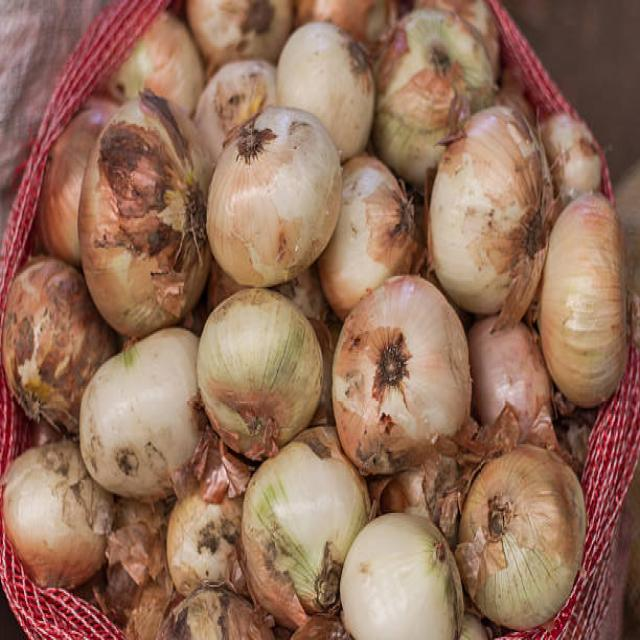mechanical_damage: (101, 95, 212, 314), (4, 260, 77, 593), (357, 294, 459, 463)
